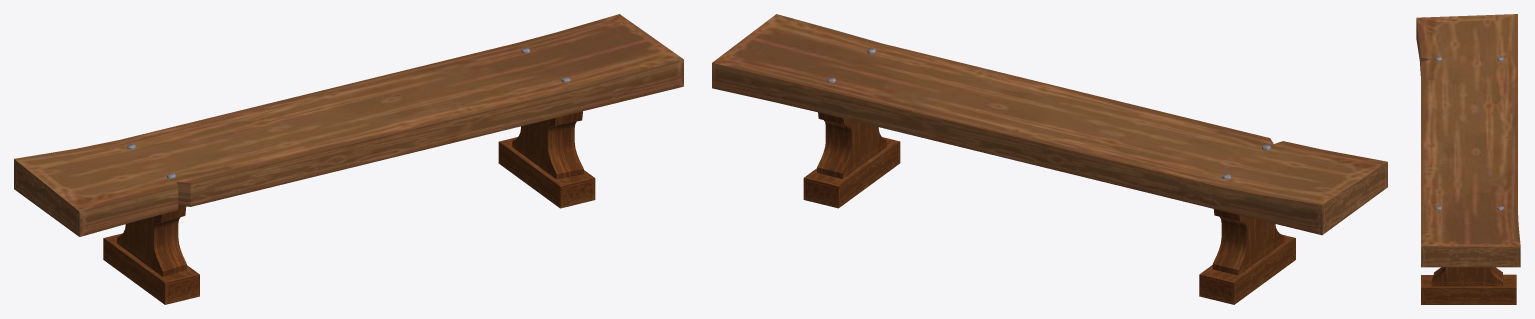
Rendered from quaternius-fantasy-props-bench.glb.
The picture shows the model from 3 angles, left to right: view 1: azimuth 30°, elevation 25°; view 2: azimuth 150°, elevation 25°; view 3: azimuth 270°, elevation 25°; orthographic projection. The views are drawn at different scales.
Visible parts, largest first — view 1: Bench; view 2: Bench; view 3: Bench.
Boxes of the visible parts, x1=… form: Bench: x1=14, y1=14, x2=683, y2=304; Bench: x1=712, y1=14, x2=1387, y2=304; Bench: x1=1416, y1=14, x2=1520, y2=304.
Size of the model in its own units: 1.7 by 0.3265 by 0.3271.
2 materials, 2 textured.
